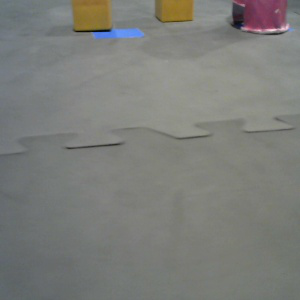Right: (230, 2, 294, 34)
